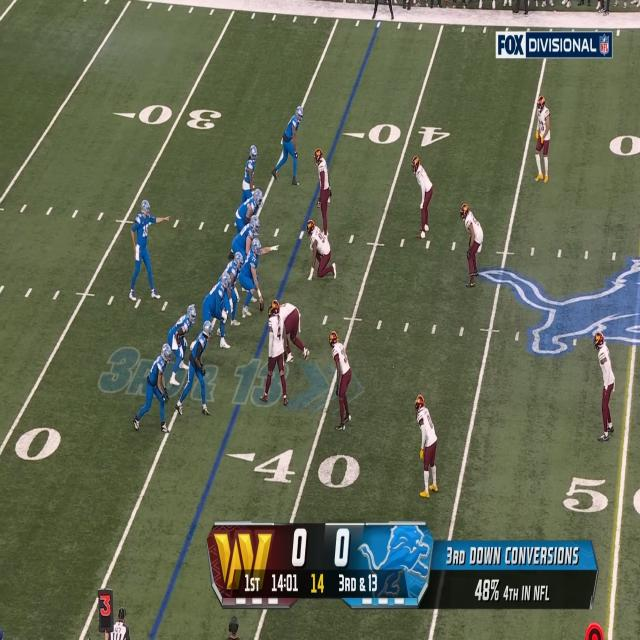Ball: (260, 300, 264, 312)
